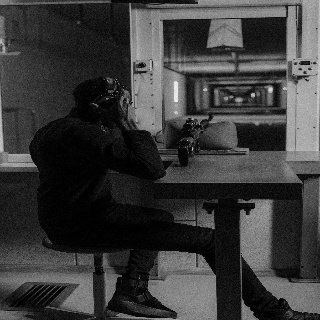rifle: (177, 112, 215, 167)
